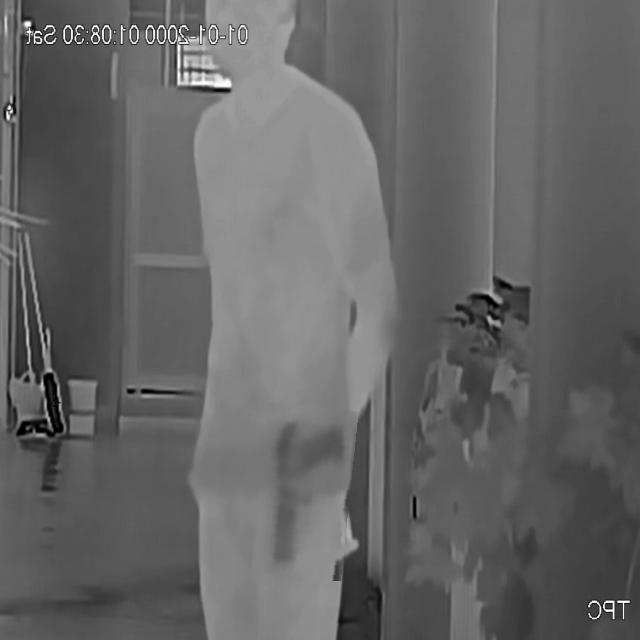Weapon: (255, 404, 354, 579)
